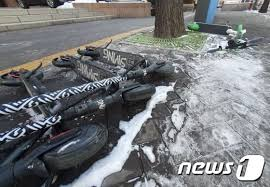fallin_kick: (187, 22, 263, 50)
